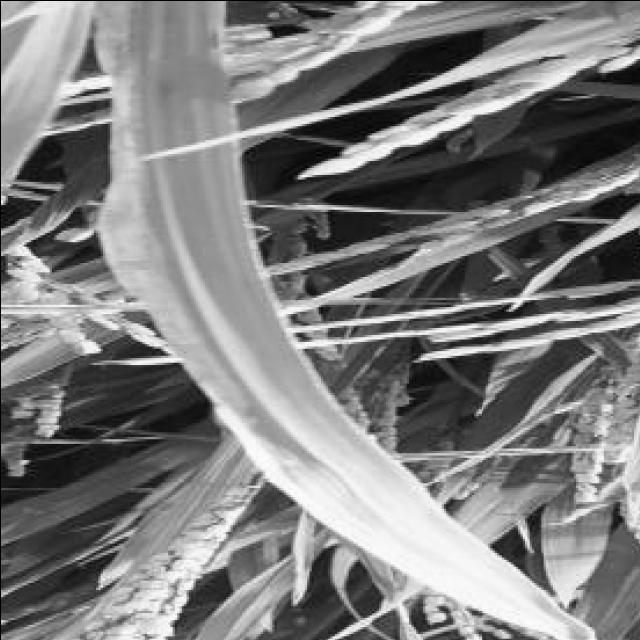Bacterial_Leaf_Blight: (88, 0, 239, 362)
